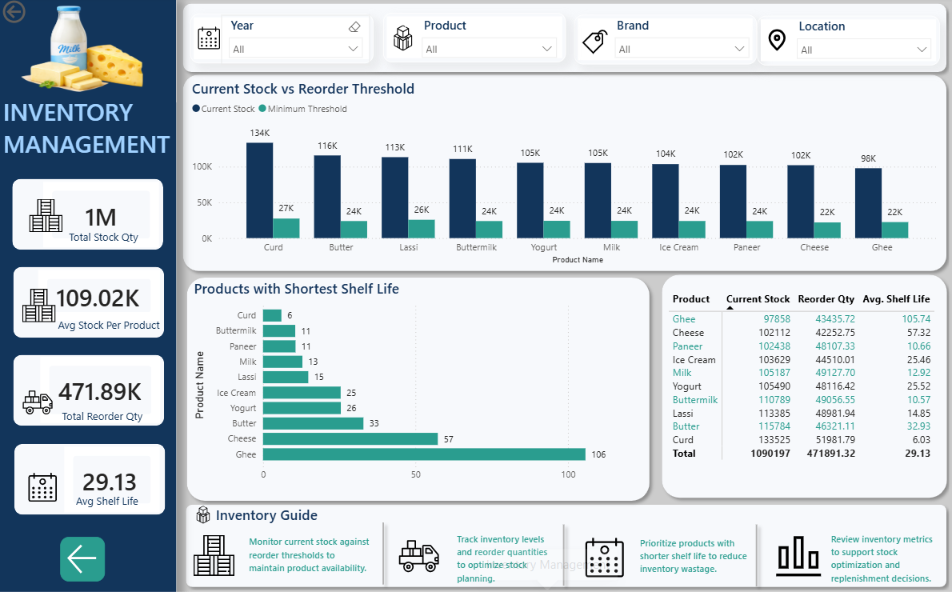

The page's visual inventory and layout, read from the dashboard file:
{"tool":"powerbi","page":{"name":"Inventory Management","canvas":[1280,800],"ordinal":3},"visuals":[{"type":"shape","box":[17.4,244,188.9,85],"z":0},{"type":"shape","box":[18.2,361.8,202.4,95.2],"z":0,"group":"g6"},{"type":"shape","box":[18.8,480.1,202.4,95.2],"z":0,"group":"g7"},{"type":"shape","box":[20.4,598.8,202.4,95.2],"z":0,"group":"g8"},{"type":"shape","box":[1016.1,25.5,245,66.4],"z":1000,"group":"g9"},{"type":"cardVisual","fields":{"Data":["Measure Table.Average Stock per Product"]},"box":[51.1,366.3,163.6,69.4],"z":1000,"group":"g6"},{"type":"cardVisual","fields":{"Data":["Measure Table.Total Reorder Quantity"]},"box":[55.2,482.3,162,90],"z":1000,"group":"g7"},{"type":"cardVisual","fields":{"Data":["Measure Table.Average Shelf Life"]},"box":[87.4,602.8,128.7,88.5],"z":1000,"group":"g8"},{"type":"shape","box":[241.3,671.6,1037.5,128.7],"z":1000},{"type":"shape","box":[514.7,21.4,245.2,66.4],"z":2000,"group":"g3"},{"type":"shape","box":[879.3,363.6,400,317.4],"z":2000},{"type":"textbox","box":[73.7,425.2,155.4,36],"z":2000,"group":"g6"},{"type":"textbox","box":[98.2,661.1,113.9,36.2],"z":2000,"group":"g8"},{"type":"shape","box":[256,22.8,245.3,66.4],"z":3000,"group":"g1"},{"type":"shape","box":[770.8,24.1,244.5,66.4],"z":3000,"group":"g2"},{"type":"image","box":[17.4,26.8,45,45],"z":3000},{"type":"textbox","box":[79,546.5,124.7,44.2],"z":3000,"group":"g7"},{"type":"shape","box":[237.3,95.2,1041.6,281.5],"z":4000},{"type":"shape","box":[237.3,0,1041.6,109.9],"z":5000},{"type":"shape","box":[0,0,237.3,800.3],"z":6000},{"type":"pivotTable","title":"Quantity Sold by Product","fields":{"Values":["Sum(Fact_Dairy.Quantity in Stock (liters/kg))","Sum(Fact_Dairy.Reorder Quantity (liters/kg))","Measure Table.Average Shelf Life"],"Rows":["Fact_Dairy.Product Name"]},"box":[892.6,390.1,368.6,257.9],"z":7000},{"type":"textbox","box":[0,127.3,241.3,159.5],"z":8000},{"type":"group","id":"g1","title":"Group 3","box":[256,22.8,245.3,68.4],"z":9000},{"type":"group","id":"g2","title":"Group 12","box":[770.8,24.1,245.3,68.4],"z":10000},{"type":"group","id":"g3","title":"Group 13","box":[514.7,21.4,245.3,68.4],"z":11000},{"type":"group","id":"g4","title":"Group 14","box":[1016.1,25.5,245.3,67],"z":12000},{"type":"image","box":[29.5,12.1,163.5,115.3],"z":13000},{"type":"slicer","fields":{"Values":["Dim_Date.Year"]},"box":[298.2,23.8,199.7,67],"z":14000,"group":"g1"},{"type":"slicer","fields":{"Values":["Fact_Dairy.Brand"]},"box":[814.8,24.1,200.2,66],"z":14000,"group":"g2"},{"type":"group","id":"g5","title":"Group 1","box":[17.4,244,202.4,98.6],"z":14000},{"type":"slicer","fields":{"Values":["Fact_Dairy.Product Name"]},"box":[556,23.8,200.8,66],"z":15000,"group":"g3"},{"type":"group","id":"g6","title":"Group 2","box":[18.2,361.8,209.9,99.2],"z":15000},{"type":"slicer","fields":{"Values":["Fact_Dairy.Location"]},"box":[1059.3,25.5,200.7,66],"z":16000,"group":"g9"},{"type":"group","id":"g7","title":"Group 4","box":[18.8,480.1,202.4,110.6],"z":16000},{"type":"group","id":"g8","title":"Group 5","box":[20.4,598.8,203.9,98.3],"z":17000},{"type":"actionButton","box":[0,0,100,40],"z":18000},{"type":"image","box":[781.1,27.7,34.1,65],"z":19000,"group":"g2"},{"type":"clusteredColumnChart","title":"Current Stock vs Reorder Threshold","fields":{"Category":["Fact_Dairy.Product Name"],"Y":["Sum(Fact_Dairy.Quantity in Stock (liters/kg))","Sum(Fact_Dairy.Minimum Stock Threshold (liters/kg))"]},"box":[253.4,109.9,1008,253.4],"z":19000},{"type":"image","box":[263.5,22.8,34.3,65],"z":20000,"group":"g1"},{"type":"shape","box":[17.4,244,202.4,95.2],"z":20000,"group":"g5"},{"type":"shape","box":[242.2,366.8,638,317.4],"z":20000},{"type":"image","box":[524.1,22.6,34.2,65],"z":21000,"group":"g3"},{"type":"cardVisual","fields":{"Data":["Measure Table.Total Stock Quantity"]},"box":[59,248,155.5,88.5],"z":21000,"group":"g5"},{"type":"image","box":[193,682.3,160.9,24.1],"z":21000},{"type":"clusteredBarChart","title":"Products with Shortest Shelf Life","fields":{"Y":["Measure Table.Average Shelf Life"],"Category":["Fact_Dairy.Product Name"]},"box":[256.2,378.5,603.3,281],"z":22000},{"type":"image","box":[1025.5,25.5,34.2,65.1],"z":23000,"group":"g9"},{"type":"image","box":[10.2,521.5,81.5,44.8],"z":23000},{"type":"image","box":[36.7,270.9,53,44.8],"z":24000},{"type":"group","id":"g9","title":"Group 15","box":[1016.1,25.5,245,66.4],"z":24001,"group":"g4"},{"type":"image","box":[32.6,635.5,52,44],"z":25000},{"type":"image","box":[26.5,391.1,53,44.8],"z":26000},{"type":"actionButton","box":[81.8,723.9,60,60],"z":27000},{"type":"textbox","box":[280.2,676.9,154.2,42.9],"z":28000},{"type":"textbox","box":[329.8,715.8,171.6,84.6],"z":29000},{"type":"shape","box":[477.3,696,75.2,101.1],"z":30000},{"type":"shape","box":[714.8,698.3,84.5,100],"z":31000},{"type":"textbox","box":[89,306.4,113.9,36.2],"z":32000,"group":"g5"},{"type":"shape","box":[971.1,698.3,89.3,101.1],"z":32000},{"type":"textbox","box":[609,712.4,145.8,87],"z":33000},{"type":"textbox","box":[853.9,717.2,162.2,75.2],"z":34000},{"type":"textbox","box":[1109.8,712.4,152.8,82.3],"z":35000},{"type":"image","box":[242.2,721.8,90,55],"z":36000},{"type":"image","box":[517.3,719.5,90,60],"z":37000},{"type":"image","box":[781.5,706.4,60,90],"z":38000},{"type":"image","box":[1041.6,719.5,60,60],"z":39000}]}

Visuals, with their boxes in screenshot pixels (x1, y1, x2, y2), scaled from the page's 1280x800 canvas onto the 952x592 screenshot:
shape: 13/181/153/243
shape: 14/268/164/338
shape: 14/355/165/426
shape: 15/443/166/514
shape: 756/19/938/68
cardVisual - Measure Table.Average Stock per Product: 38/271/160/322
cardVisual - Measure Table.Total Reorder Quantity: 41/357/162/424
cardVisual - Measure Table.Average Shelf Life: 65/446/161/512
shape: 179/497/951/591
shape: 383/16/565/65
shape: 654/269/951/504
textbox: 55/315/170/341
textbox: 73/489/158/516
shape: 190/17/373/66
shape: 573/18/755/67
image: 13/20/46/53
textbox: 59/404/152/437
shape: 176/70/951/279
shape: 176/0/951/81
shape: 0/0/176/591
"Quantity Sold by Product" pivotTable: 664/289/938/480
textbox: 0/94/179/212
"Group 3" group: 190/17/373/67
"Group 12" group: 573/18/756/68
"Group 13" group: 383/16/565/66
"Group 14" group: 756/19/938/68
image: 22/9/144/94
slicer - Dim_Date.Year: 222/18/370/67
slicer - Fact_Dairy.Brand: 606/18/755/67
"Group 1" group: 13/181/163/254
slicer - Fact_Dairy.Product Name: 414/18/563/66
"Group 2" group: 14/268/170/341
slicer - Fact_Dairy.Location: 788/19/937/68
"Group 4" group: 14/355/165/437
"Group 5" group: 15/443/167/516
actionButton: 0/0/74/30
image: 581/20/606/69
"Current Stock vs Reorder Threshold" clusteredColumnChart: 188/81/938/269
image: 196/17/221/65
shape: 13/181/163/251
shape: 180/271/655/506
image: 390/17/415/65
cardVisual - Measure Table.Total Stock Quantity: 44/184/160/249
image: 144/505/263/523
"Products with Shortest Shelf Life" clusteredBarChart: 191/280/639/488
image: 763/19/788/67
image: 8/386/68/419
image: 27/200/67/234
"Group 15" group: 756/19/938/68
image: 24/470/63/503
image: 20/289/59/323
actionButton: 61/536/105/580
textbox: 208/501/323/533
textbox: 245/530/373/591
shape: 355/515/411/590
shape: 532/517/594/591
textbox: 66/227/151/254
shape: 722/517/789/591
textbox: 453/527/561/591
textbox: 635/531/756/586
textbox: 825/527/939/588
image: 180/534/247/575
image: 385/532/452/577
image: 581/523/626/589
image: 775/532/819/577
